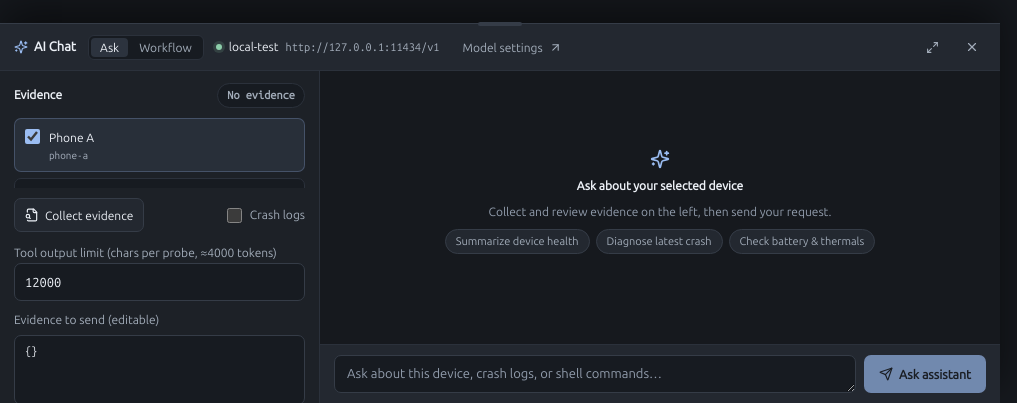
Test case: reviewed AI requests › sends a user-selected tool output limit, clamped and remembered
expect the text box named "Assistant request" is shown: met, box [334,355,856,393]
expect the text "local-test" is shown: met, box [229,38,278,56]
Replace the text in the number field labelled "Tool output limit" with "500": (160, 282) [14,263,305,301]
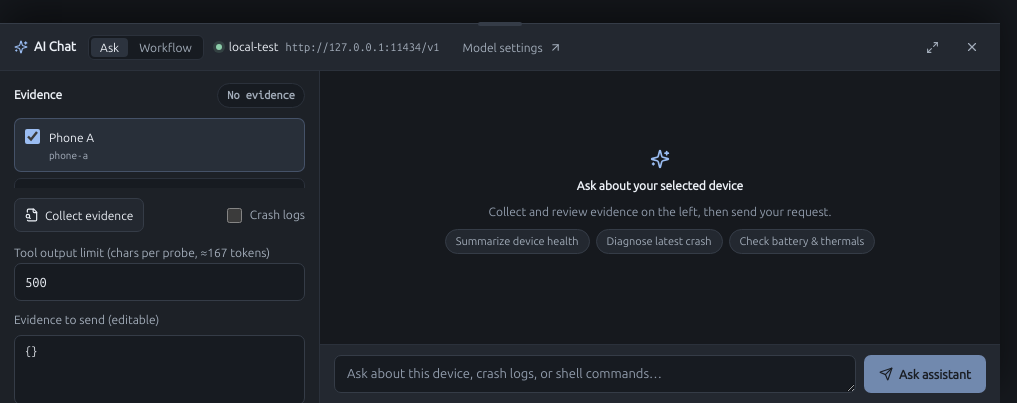
Leave the number field labelled "Tool output limit", box [14,263,305,301]
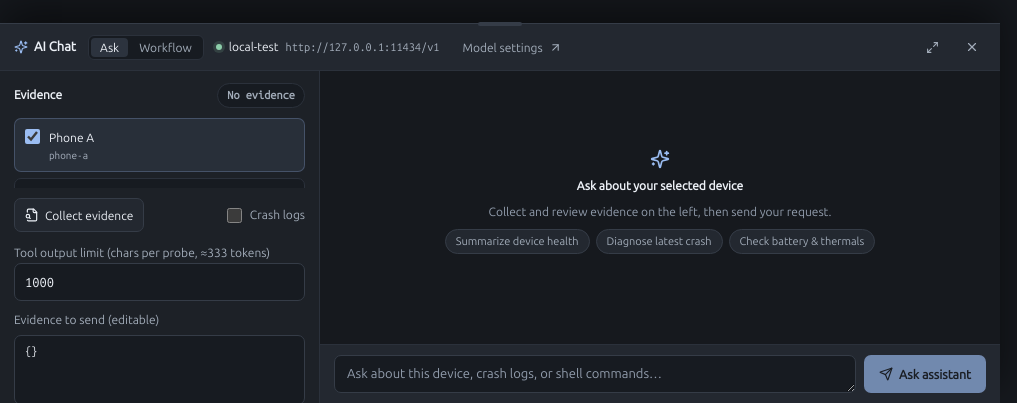
expect the number field labelled "Tool output limit" holds "1000": met
Replace the text in the number field labelled "Tool output limit" with "6000": (160, 282) [14,263,305,301]
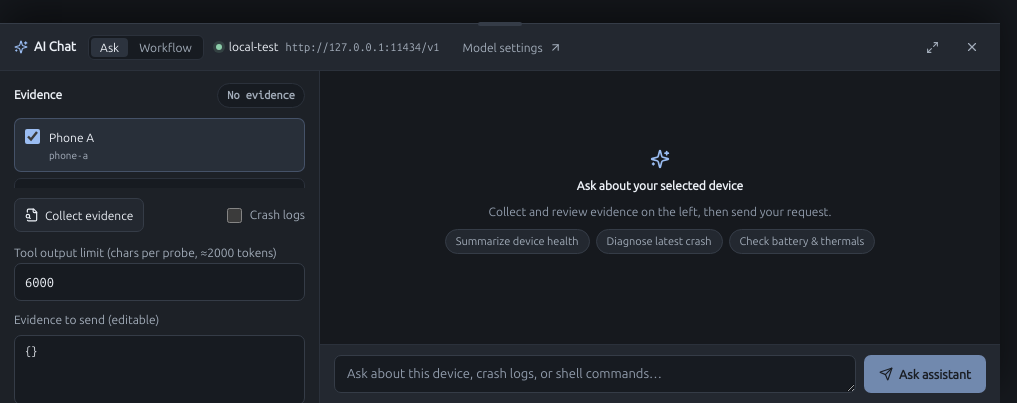
In the text box named "Assistant request": (595, 374) [334,355,856,393], type "Top RAM process?"
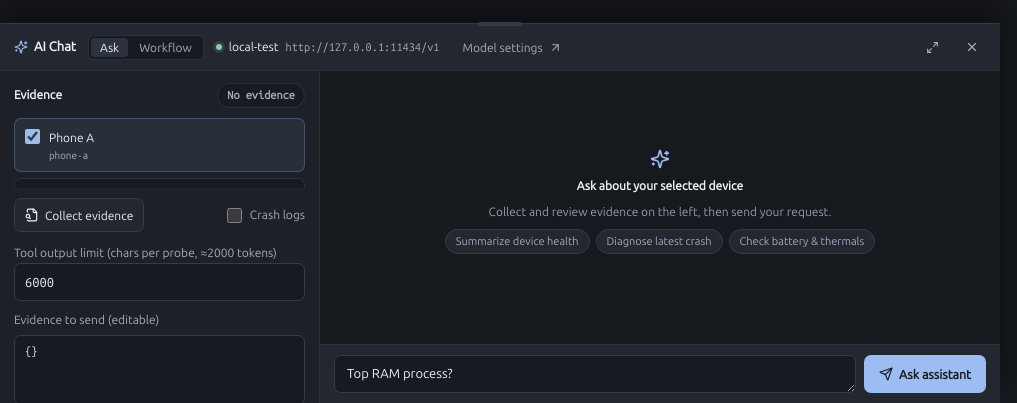
Click the button "Ask assistant": (925, 374) [864,355,986,393]
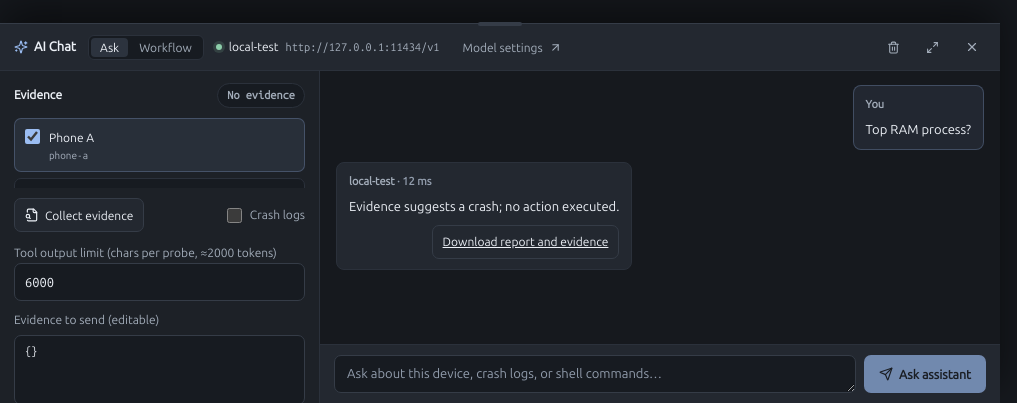
expect the text "Evidence suggests a crash; no action executed." is shown: met, box [349,196,619,217]
